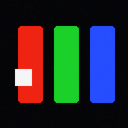1 square: (15, 69, 31, 85)
